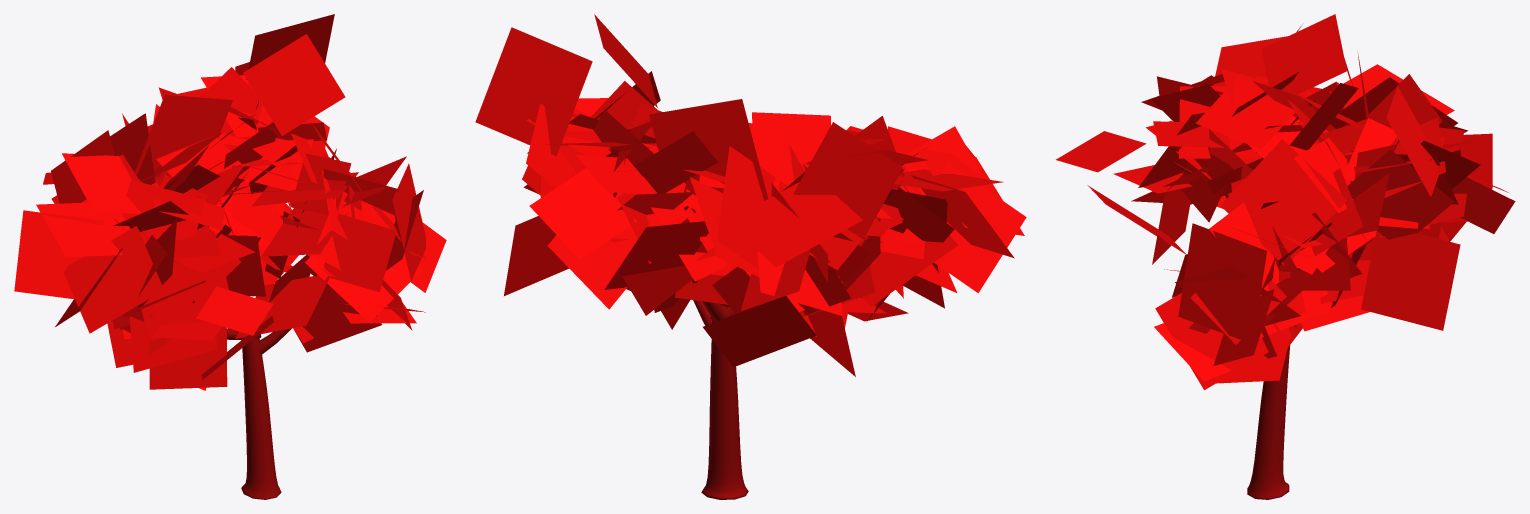
File: tree_blossom_2.glb
3 views of the same model, side by side, from view 1: azimuth 30°, elevation 25°; view 2: azimuth 150°, elevation 25°; view 3: azimuth 270°, elevation 25° (orthographic). The views are drawn at different scales.
Visible parts, largest first — view 1: tree_blossom_2; view 2: tree_blossom_2; view 3: tree_blossom_2.
Boxes of the visible parts, box(x1,y1,x2,y2) form: tree_blossom_2: box(14, 14, 446, 499); tree_blossom_2: box(475, 14, 1026, 499); tree_blossom_2: box(1056, 14, 1515, 499).
Size of the model in its own units: 8.01 by 7.45 by 6.9.
